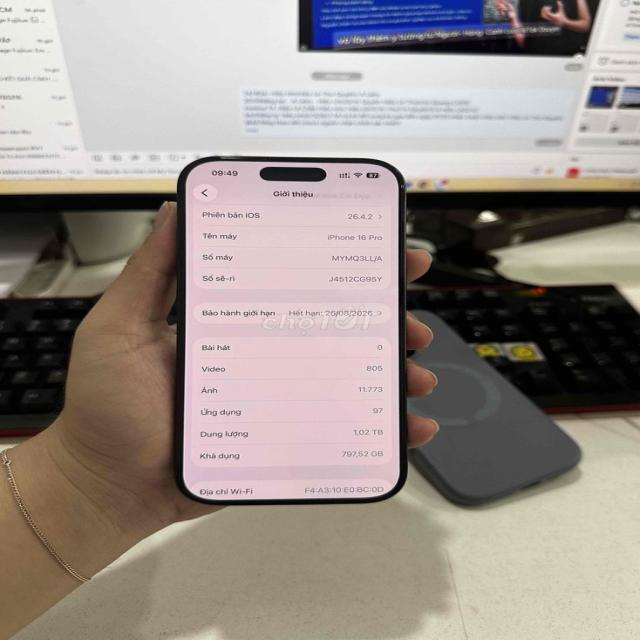gen_16: (174, 156, 406, 504)
